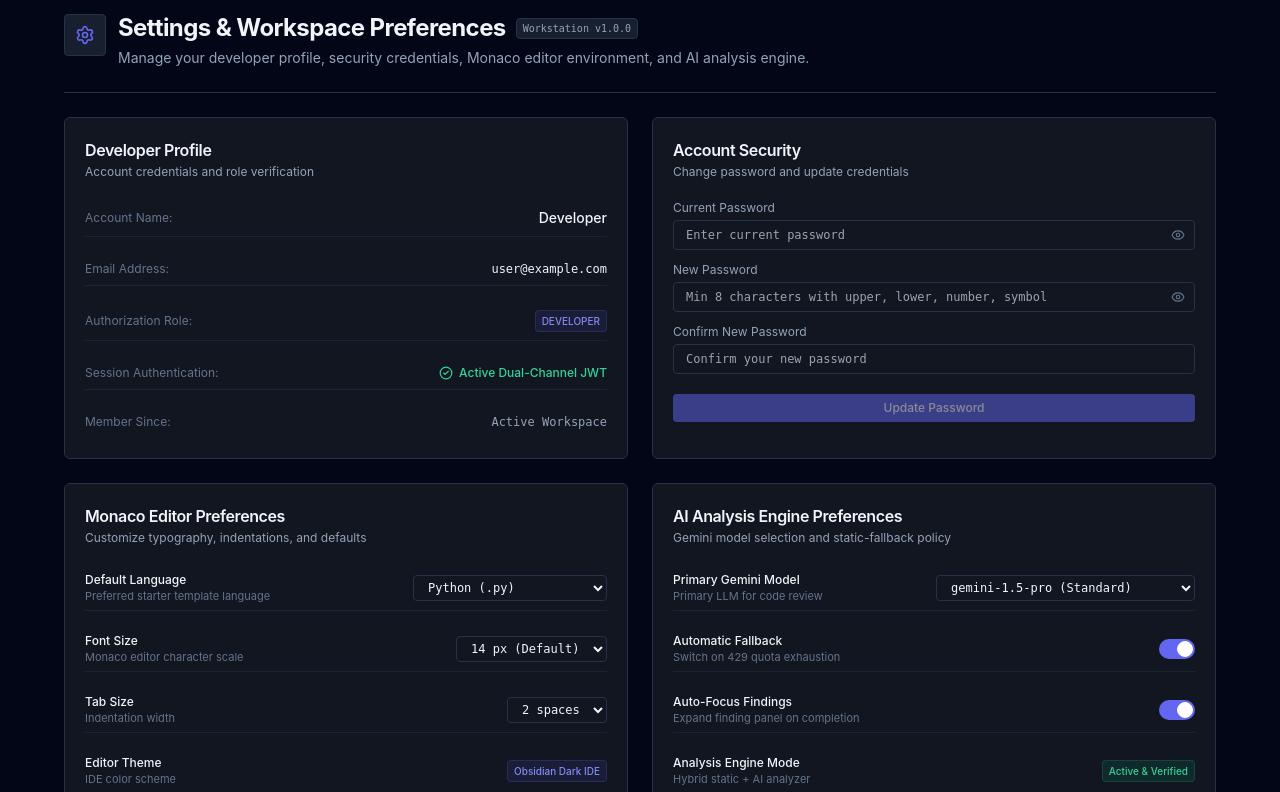
Test: Phase 7: Settings Page Functional Tests › validates password requirements before submission
The width and height of the screenshot is (1280, 792).
Expected: the heading "Account Security" is shown, [673,140,801,160]
Note: Test: short new password
Type "OldPassword1!" into the password field with placeholder "Enter current password".
click(934, 235); type("OldPassword1!")  # box [673,220,1195,250]
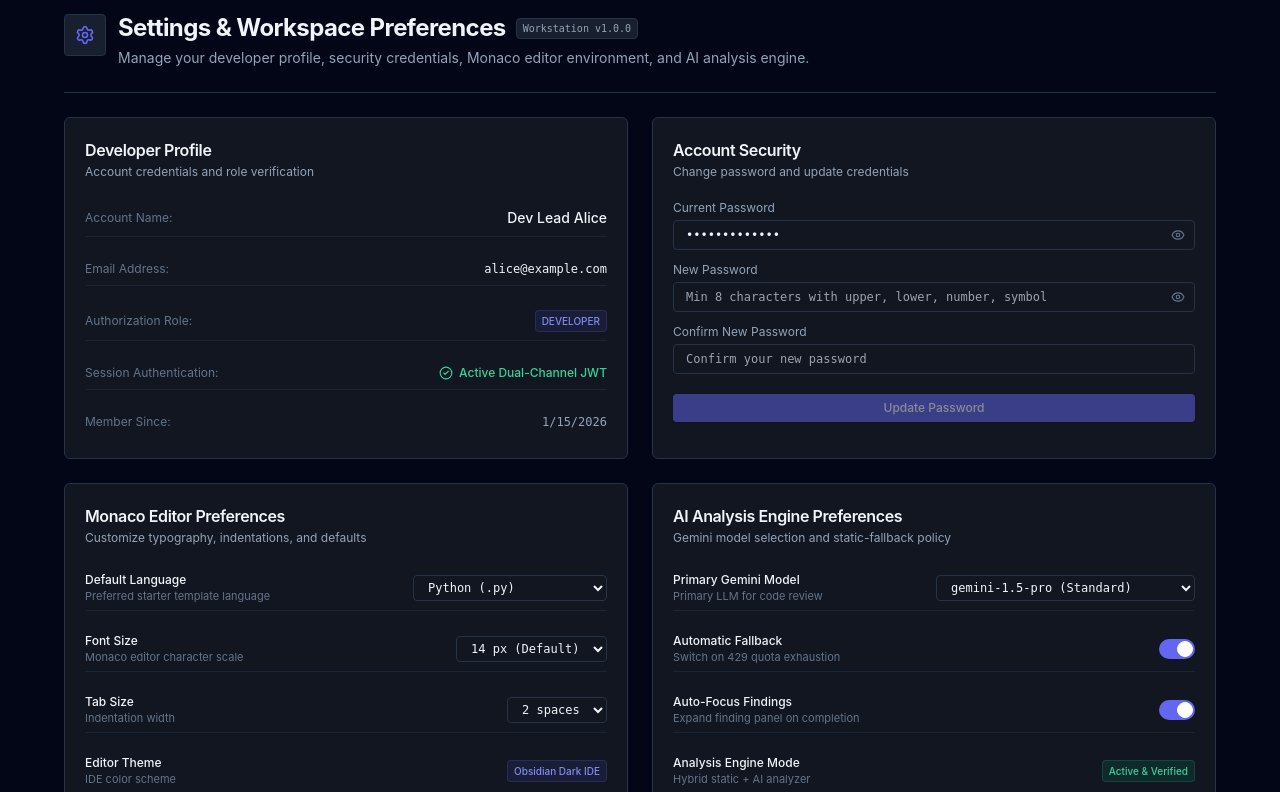
Type "short" into the password field with placeholder "Min 8 characters with upper, lower, number, symbol".
click(934, 297); type("short")  # box [673,282,1195,312]
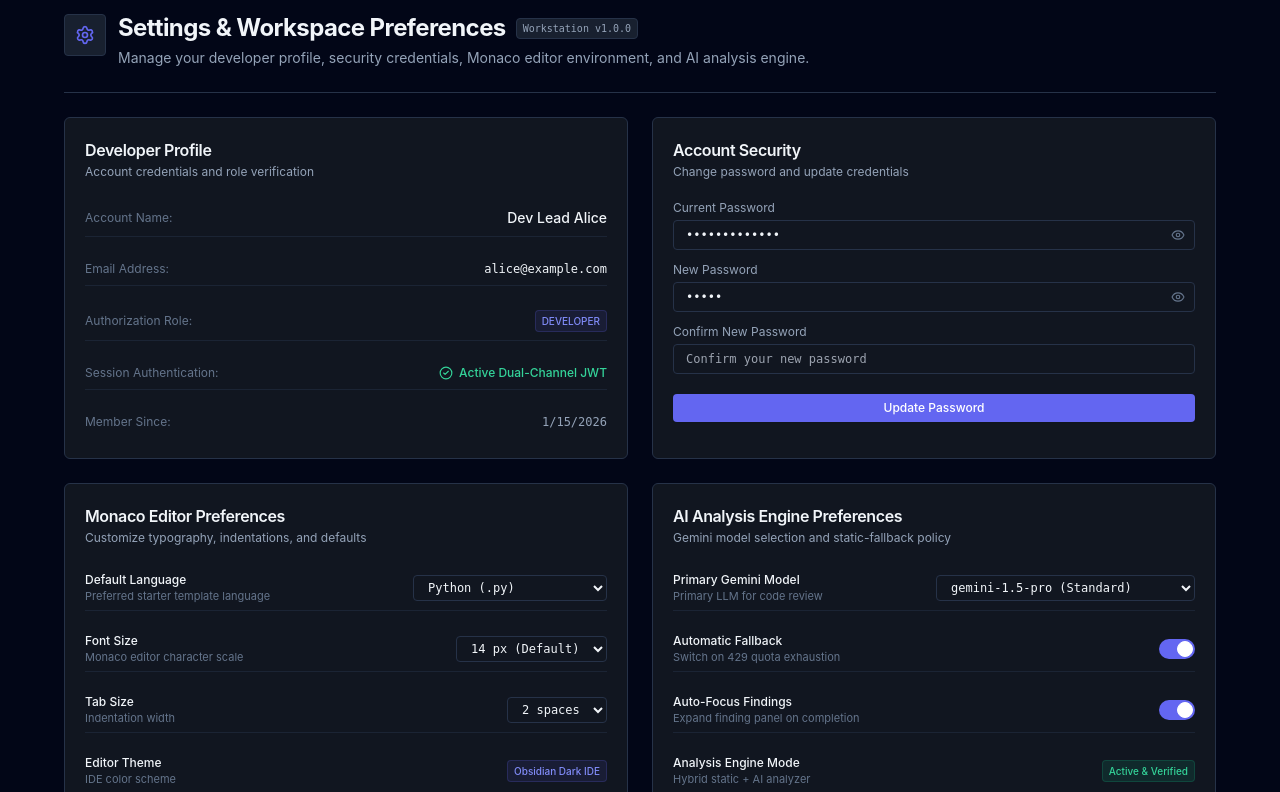
Type "short" into the password field with placeholder "Confirm your new password".
click(934, 359); type("short")  # box [673,344,1195,374]
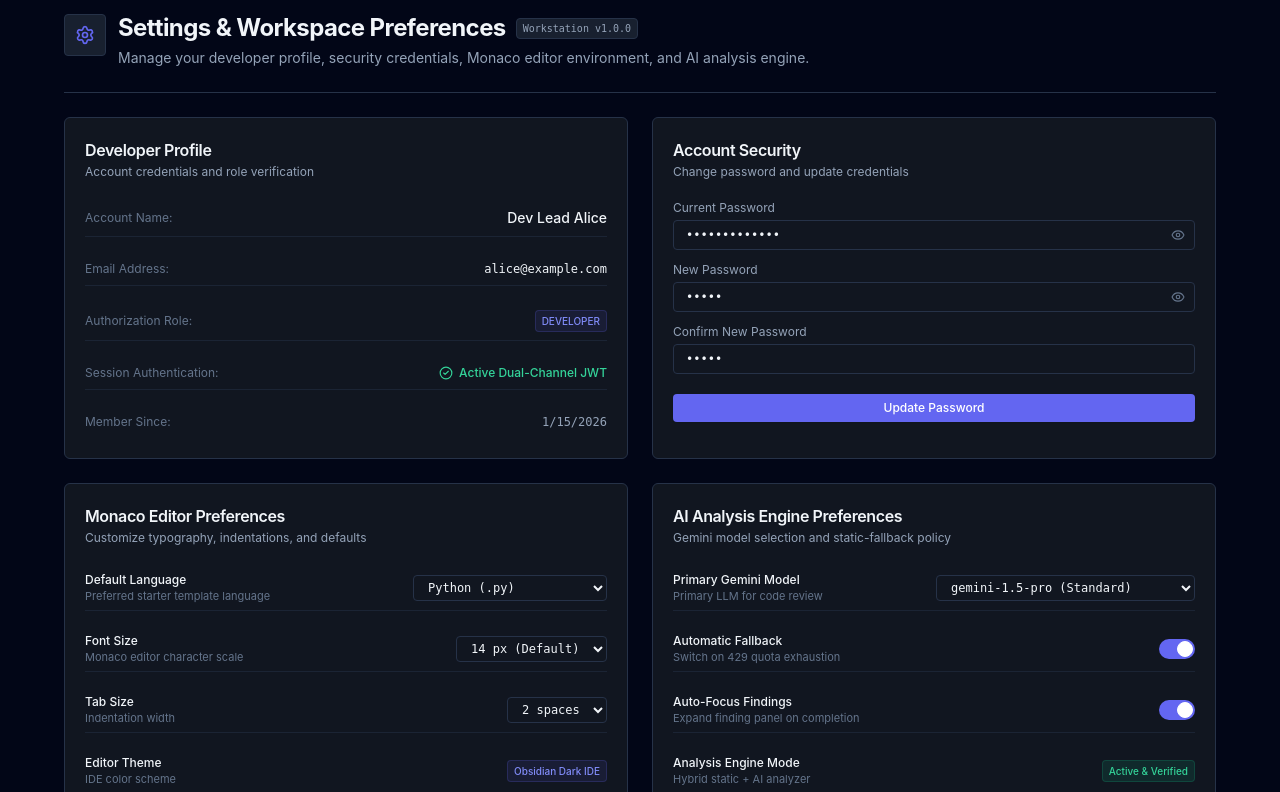
Click the button "Update Password".
click(934, 408)  # box [673,394,1195,422]
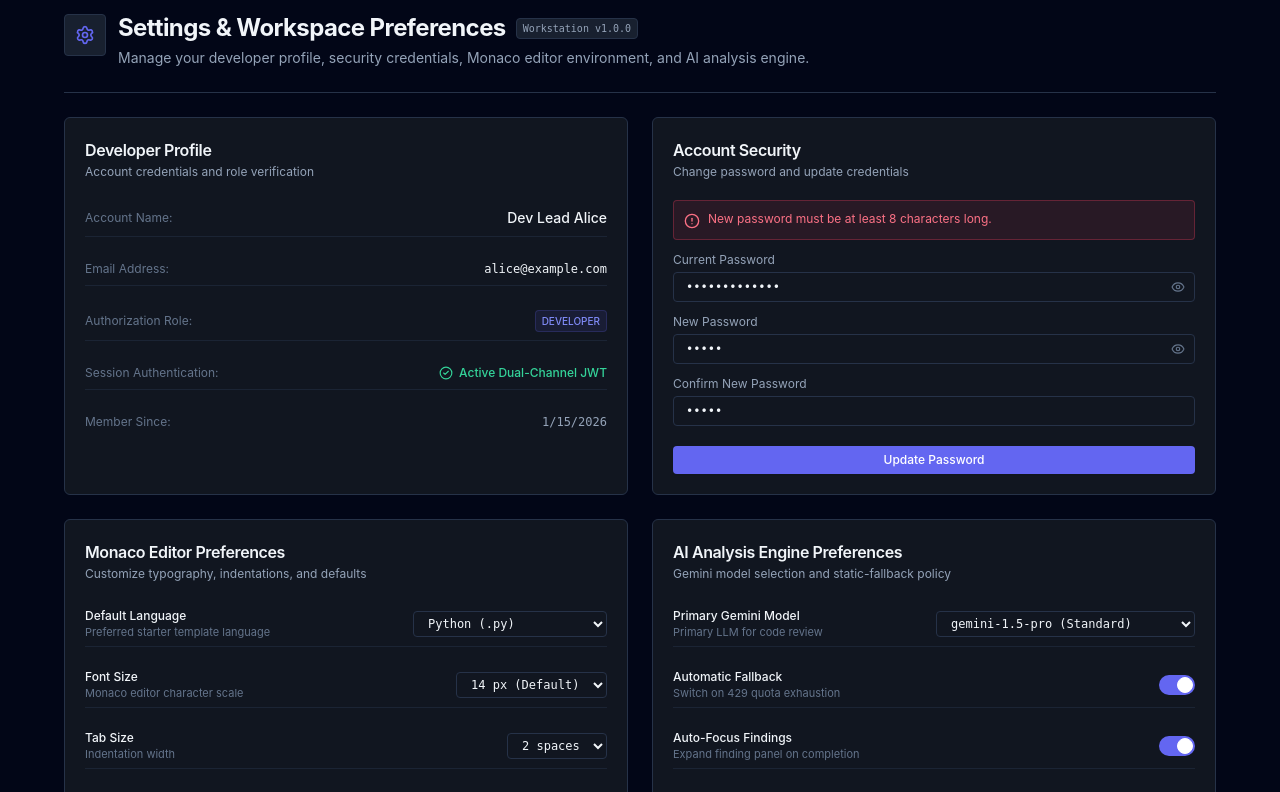
Expected: the text "New password must be at least 8 characters long." is shown, [708,211,992,227]
